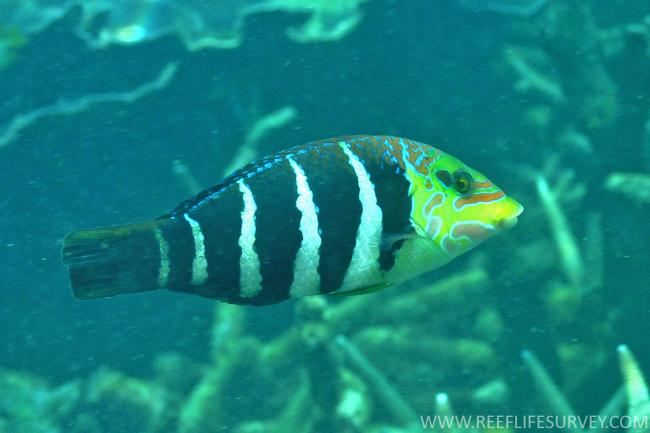fish: (62, 134, 527, 308)
